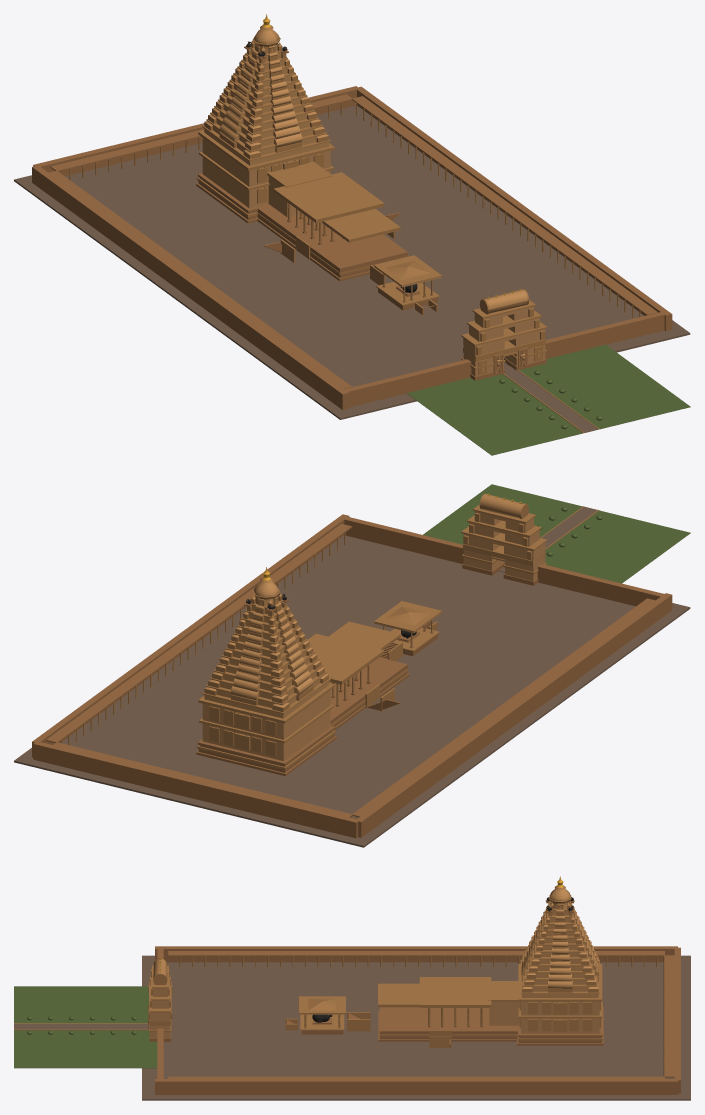
Rendered from brihadisvara-temple.glb.
The picture shows the model from 3 angles, top to bottom: view 1: azimuth 30°, elevation 25°; view 2: azimuth 150°, elevation 25°; view 3: azimuth 270°, elevation 25°; orthographic projection. The views are drawn at different scales.
Visible parts, largest first — view 1: Brihadisvara_courtyard, Brihadisvara_stoneBase, Brihadisvara_details, Brihadisvara_lawn, Brihadisvara_vimana, Brihadisvara_sanctumWall; view 2: Brihadisvara_courtyard, Brihadisvara_stoneBase, Brihadisvara_details, Brihadisvara_lawn, Brihadisvara_vimana, Brihadisvara_sanctumWall; view 3: Brihadisvara_courtyard, Brihadisvara_stoneBase, Brihadisvara_details, Brihadisvara_lawn, Brihadisvara_vimana, Brihadisvara_sanctumWall.
Boxes of the visible parts, x1,y1,x2,y2 form: Brihadisvara_courtyard: [14, 105, 690, 432]; Brihadisvara_stoneBase: [32, 45, 672, 409]; Brihadisvara_details: [69, 25, 640, 433]; Brihadisvara_lawn: [406, 344, 690, 455]; Brihadisvara_vimana: [204, 29, 540, 373]; Brihadisvara_sanctumWall: [202, 138, 545, 376]; Brihadisvara_courtyard: [14, 506, 690, 847]; Brihadisvara_stoneBase: [32, 514, 672, 838]; Brihadisvara_details: [61, 493, 599, 818]; Brihadisvara_lawn: [423, 484, 690, 583]; Brihadisvara_vimana: [204, 494, 523, 718]; Brihadisvara_sanctumWall: [202, 511, 545, 760]; Brihadisvara_courtyard: [14, 955, 690, 1100]; Brihadisvara_stoneBase: [149, 900, 680, 1094]; Brihadisvara_details: [14, 885, 664, 1076]; Brihadisvara_lawn: [14, 986, 157, 1068]; Brihadisvara_vimana: [148, 889, 598, 1030]; Brihadisvara_sanctumWall: [150, 988, 599, 1038].
Size of the model in its own units: 130 by 64.3 by 259.
